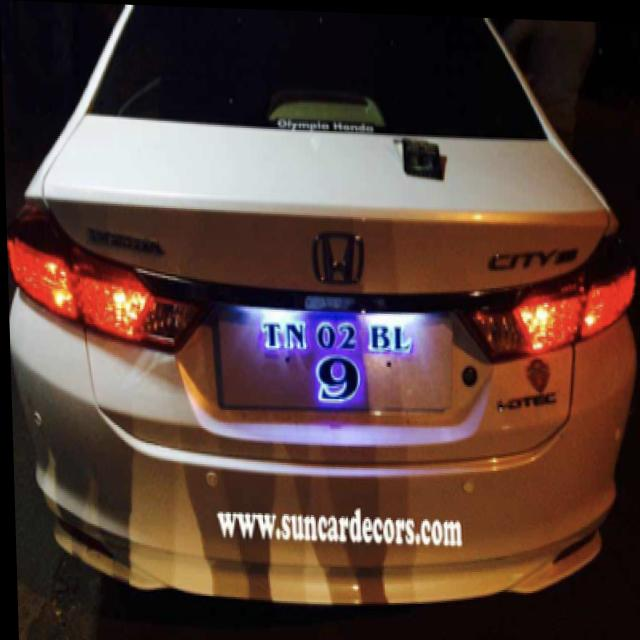licence: (250, 305, 414, 403)
